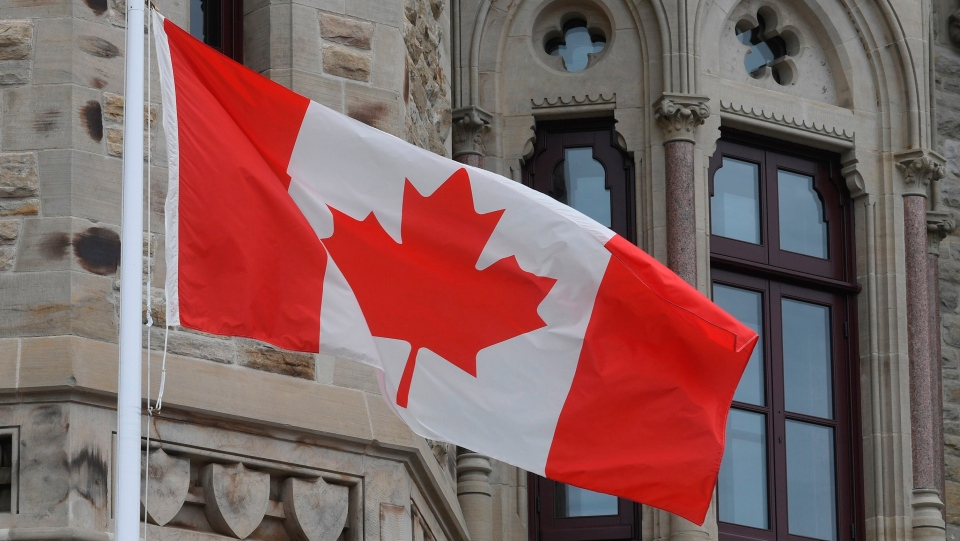Canada flag: (157, 21, 750, 528)
